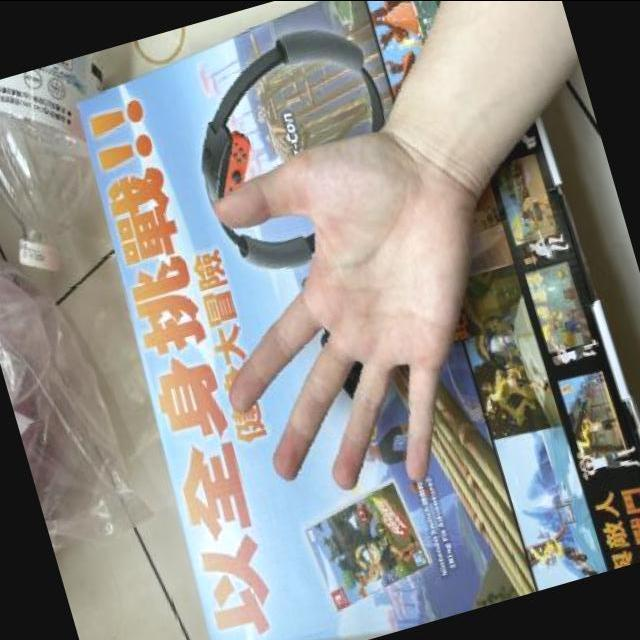hand: (212, 45, 528, 496)
